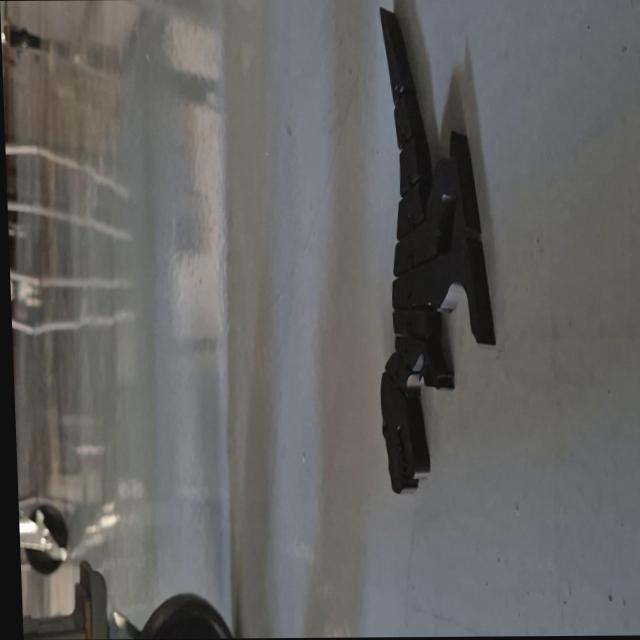dino: (365, 3, 503, 496)
